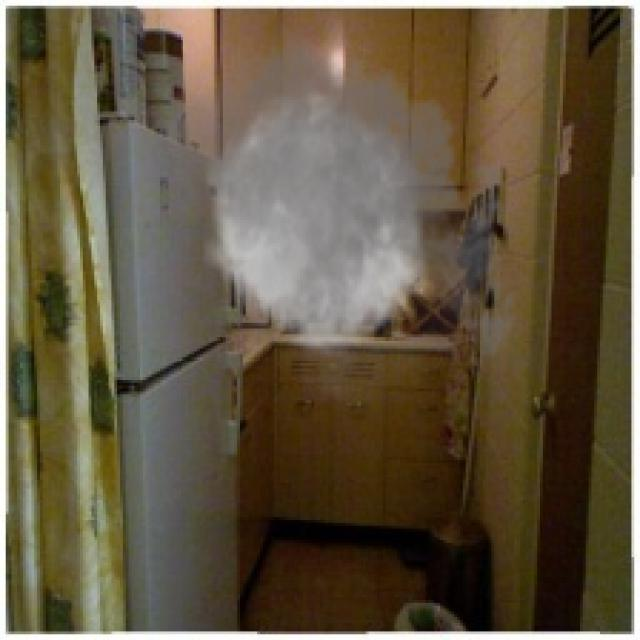Smoke: (152, 14, 528, 426)
